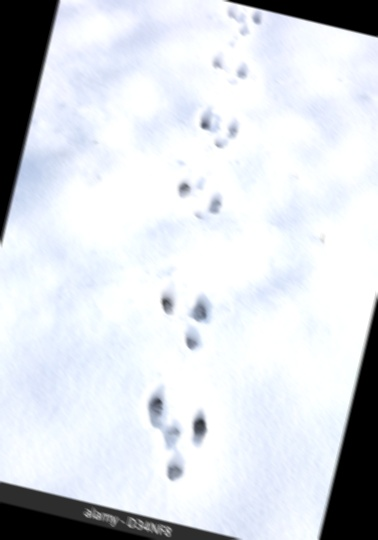rabbit: (132, 274, 231, 366), (147, 160, 247, 247)
